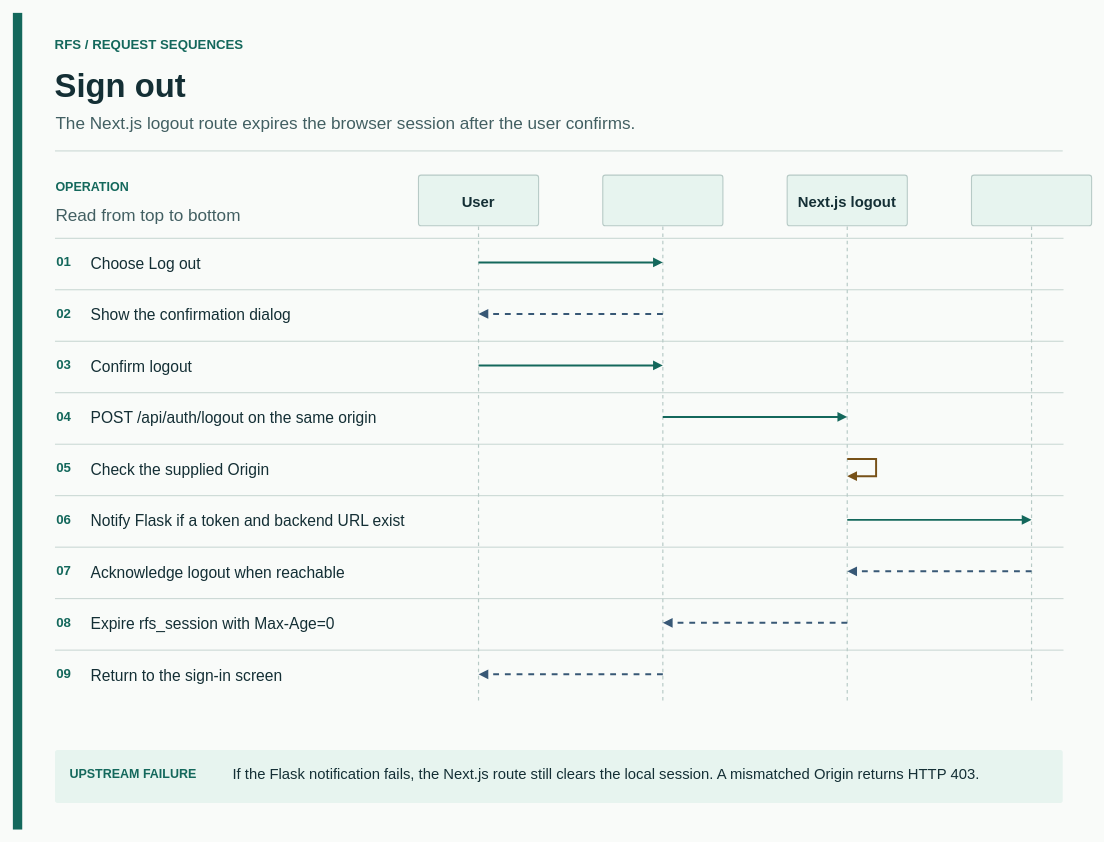
This 1104x842 diagram has some shape labels left out. Each missing label, with the centre of its shape:
"Browser UI" goes at point 662,200.
"Flask auth" goes at point 1031,200.
